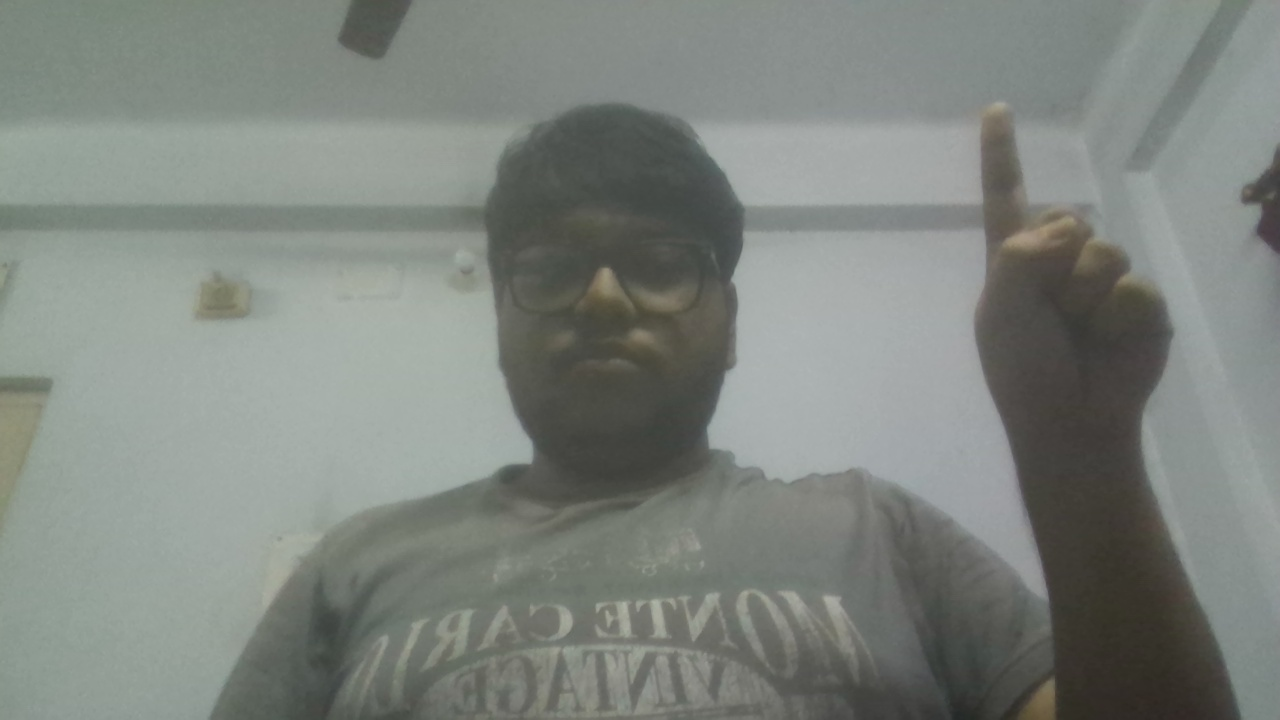Gesture1: (957, 85, 1187, 469)
